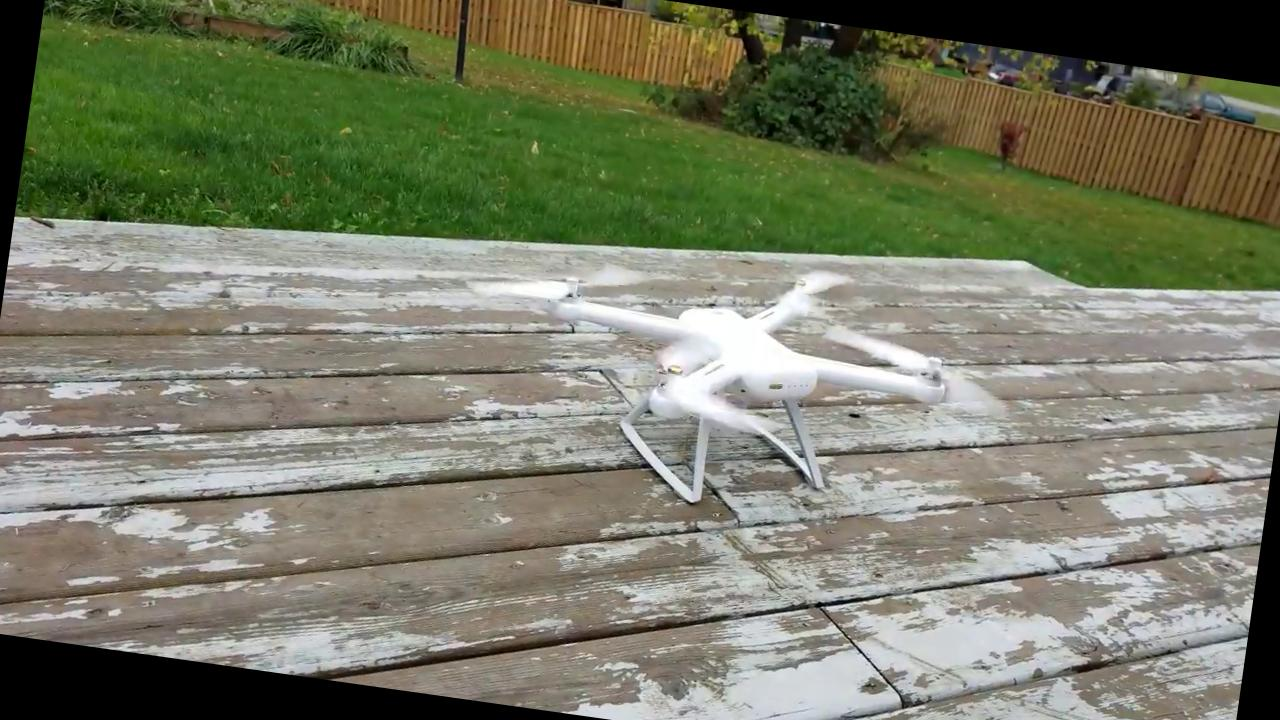drone: (469, 216, 994, 489)
